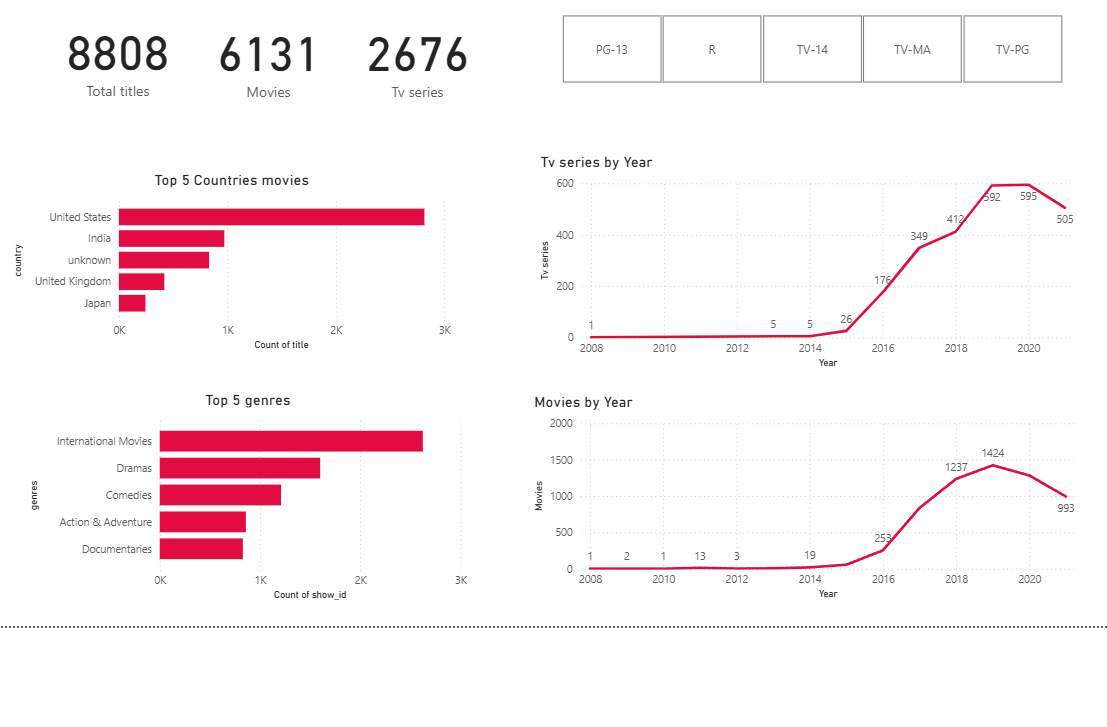

What the dashboard file says about the page in this screenshot:
{"tool":"powerbi","page":{"name":"Page 1","canvas":[1280,720],"ordinal":0},"visuals":[{"type":"card","fields":{"Values":["measures table.Total titles"]},"box":[14.2,0,249.2,144.2],"z":0},{"type":"card","fields":{"Values":["measures table.Movies"]},"box":[210,17.8,199.3,110.3],"z":1000},{"type":"card","fields":{"Values":["measures table.Tv series"]},"box":[371.4,15.7,217.1,115.7],"z":2000},{"type":"lineChart","fields":{"Y":["measures table.Tv series"],"Category":["netflix_titles.date_added.Variation.Date Hierarchy.Year"]},"box":[615,181.7,620,250],"z":3000},{"type":"lineChart","fields":{"Category":["netflix_titles.date_added.Variation.Date Hierarchy.Year"],"Y":["measures table.Movies"]},"box":[606.7,455,628.3,240],"z":4000},{"type":"barChart","title":"Top 5 Countries movies","fields":{"Category":["netflix_titles.country"],"Y":["CountNonNull(netflix_titles.title)"]},"box":[14,202,508,210],"z":5000},{"type":"barChart","title":"Top 5 genres ","fields":{"Category":["genres.genres"],"Y":["CountNonNull(genres.show_id)"]},"box":[32,452,508,244],"z":6000},{"type":"slicer","fields":{"Values":["netflix_titles.rating"]},"box":[618,18,618,90],"z":7000}]}

Visuals, with their boxes on the page's 1280x720 design canvas (x1, y1, x2, y2). These are canvas units, not pixel positions in the 1107x727 screenshot, which may show the page scaled, cropped or inside an application window:
card - measures table.Total titles: x1=14 y1=0 x2=263 y2=144
card - measures table.Movies: x1=210 y1=18 x2=409 y2=128
card - measures table.Tv series: x1=371 y1=16 x2=588 y2=131
lineChart - measures table.Tv series x netflix_titles.date_added.Variation.Date Hierarchy.Year: x1=615 y1=182 x2=1235 y2=432
lineChart - netflix_titles.date_added.Variation.Date Hierarchy.Year x measures table.Movies: x1=607 y1=455 x2=1235 y2=695
"Top 5 Countries movies" barChart: x1=14 y1=202 x2=522 y2=412
"Top 5 genres " barChart: x1=32 y1=452 x2=540 y2=696
slicer - netflix_titles.rating: x1=618 y1=18 x2=1236 y2=108
